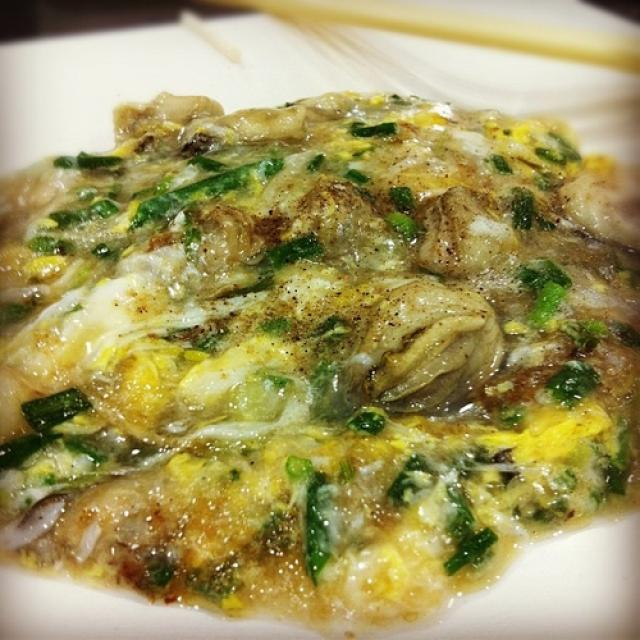炸货点心: (13, 47, 612, 616)
蛋糕甜品: (13, 47, 612, 616)
